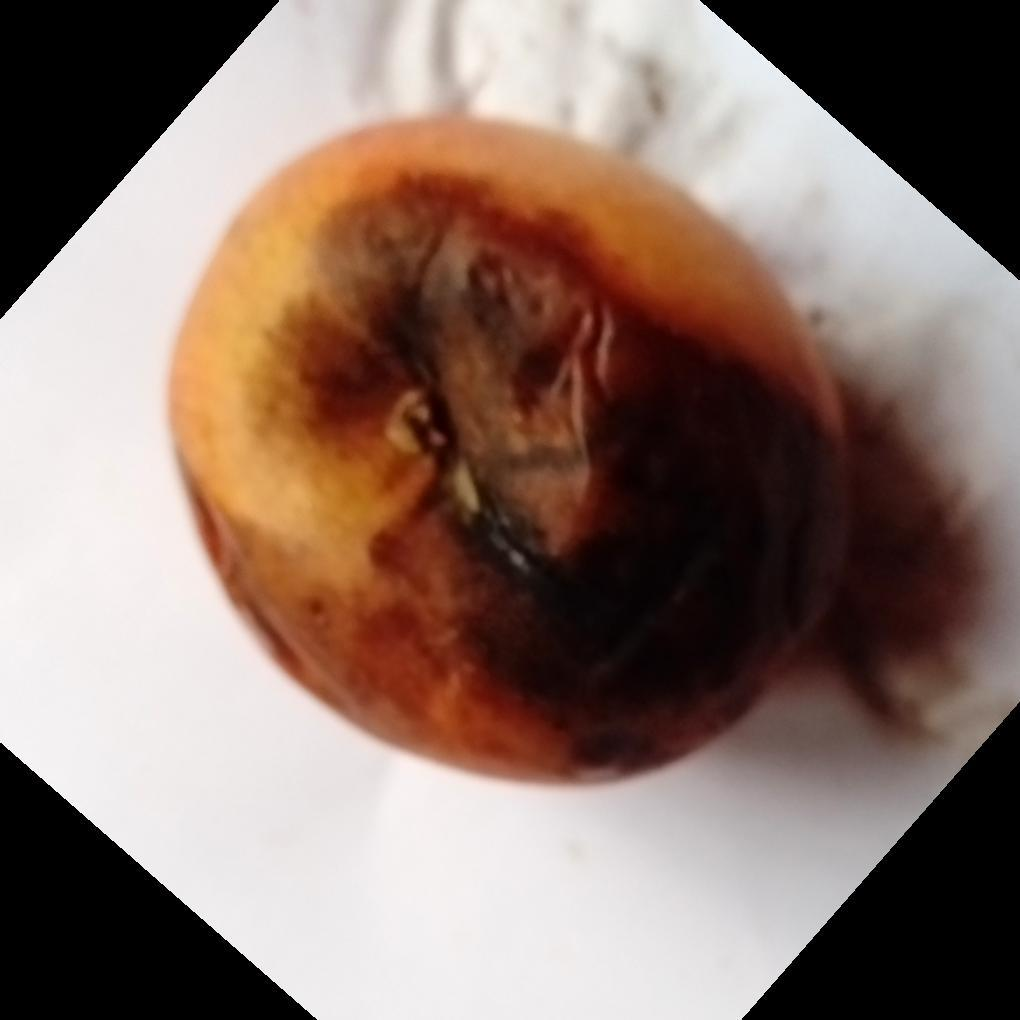FreshOrange: (164, 116, 860, 793)
